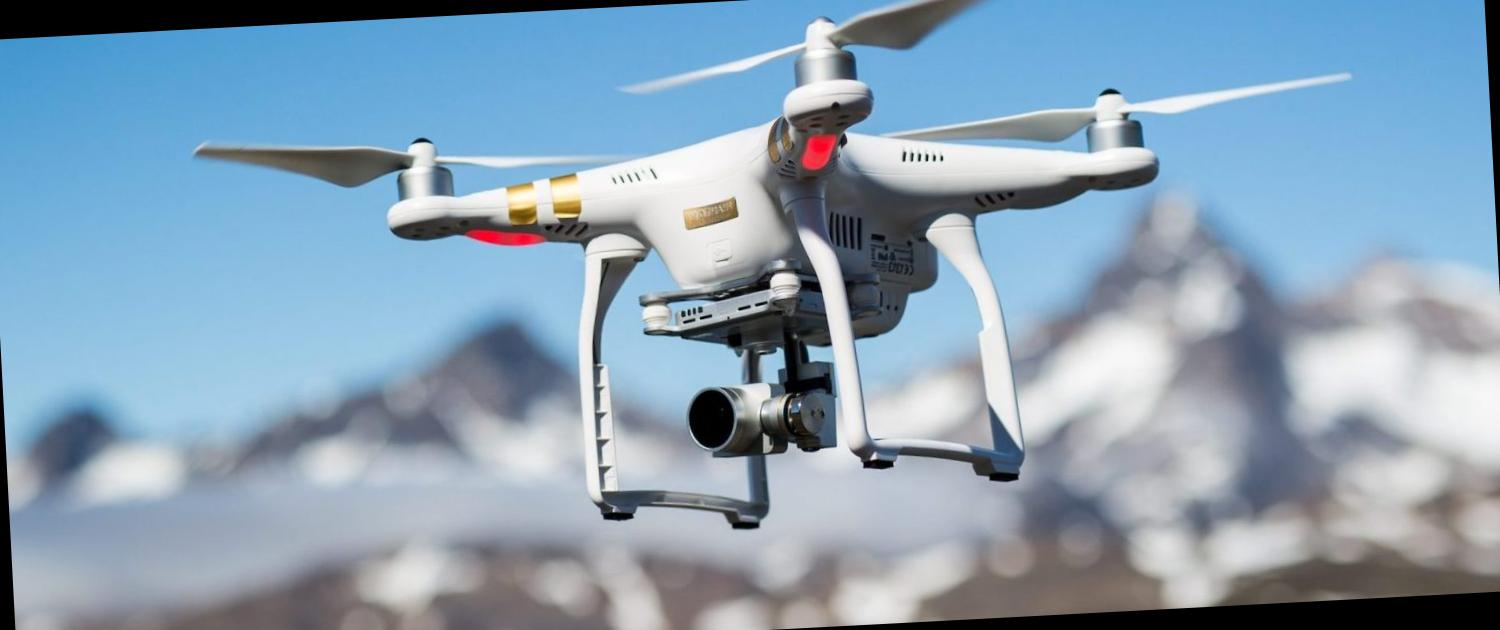drone: (163, 0, 1334, 487)
